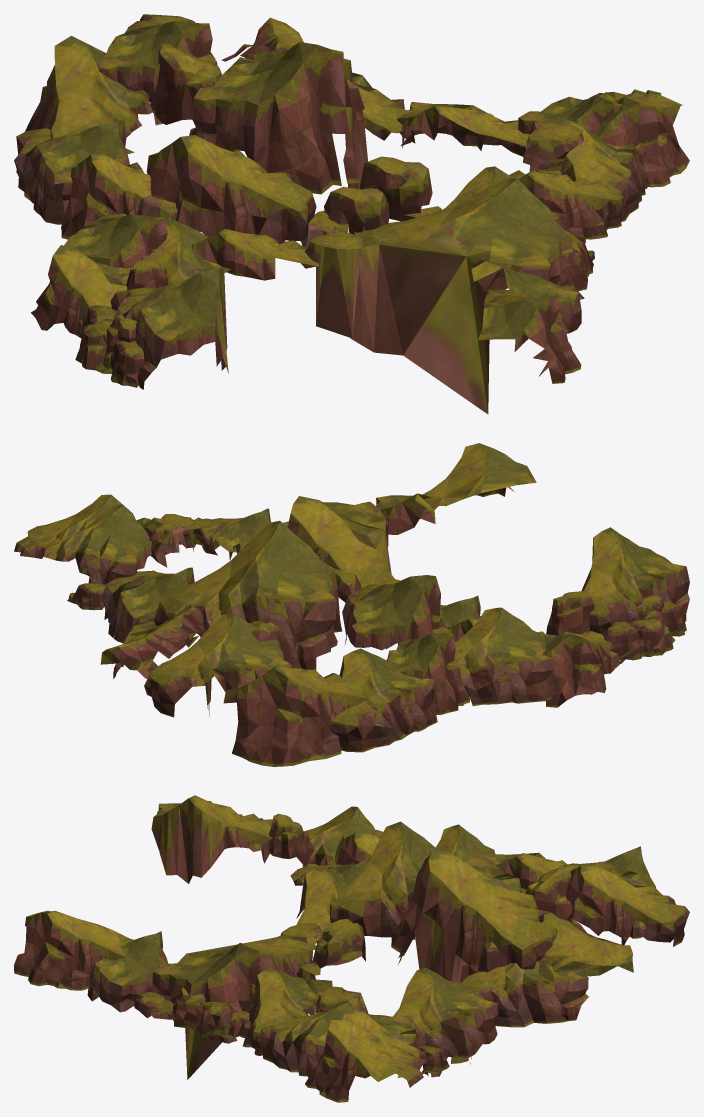
File: yanshi22_1.FBX
3 renders of one model, top to bottom at view 1: azimuth 30°, elevation 25°; view 2: azimuth 150°, elevation 25°; view 3: azimuth 270°, elevation 25°, orthographic. The views are drawn at different scales.
Visible parts, largest first — view 1: yanshi22_1; view 2: yanshi22_1; view 3: yanshi22_1.
Boxes of the visible parts, bbox=[...] form: yanshi22_1: bbox=[14, 14, 689, 414]; yanshi22_1: bbox=[14, 443, 689, 766]; yanshi22_1: bbox=[14, 795, 689, 1102].
Size of the model in its own units: 9723 by 3633 by 10102.
